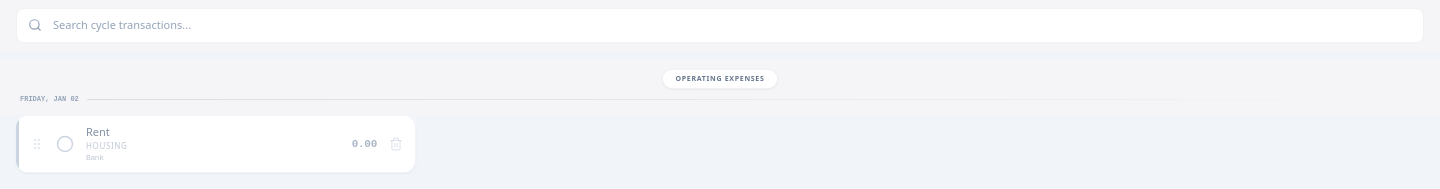
Scenario: TransactionList › given a search yields zero matches, then the empty-state message is shown and no rows render
Step 1. Type "zzzzz" into the field with placeholder "Search cycle transactions..." → [720, 25], box [16,8,1424,42]
Wait 300 ms
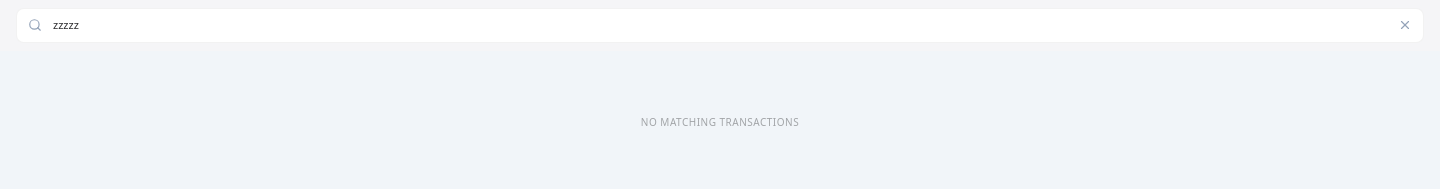
Result: the text "No matching transactions" is shown at [641,115,799,130]
Result: the element with id "tx-row-tx-a" is gone
